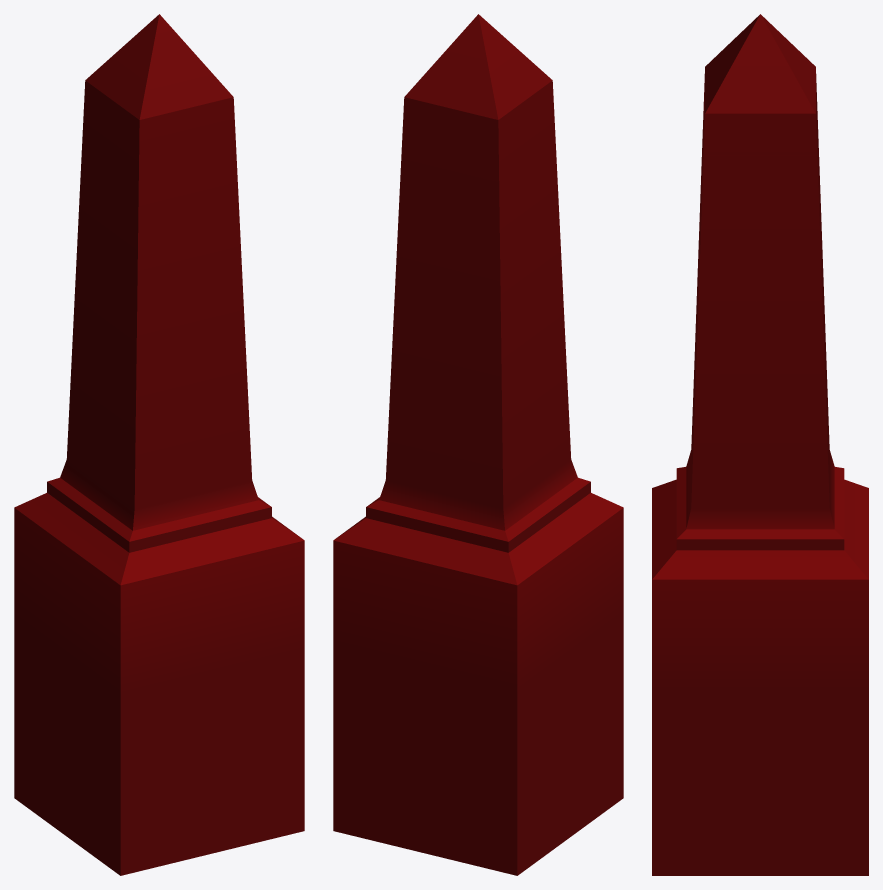
The model's file is geology-carvedstone-obelisk_v1.fbx.
3 views of the same model, side by side, from view 1: azimuth 30°, elevation 25°; view 2: azimuth 150°, elevation 25°; view 3: azimuth 270°, elevation 25° (orthographic).
Parts seen in each view (by area): view 1: Obelisk_v1; view 2: Obelisk_v1; view 3: Obelisk_v1.
Boxes of the visible parts, x1,y1,x2,y2 form: Obelisk_v1: [14, 14, 304, 875]; Obelisk_v1: [333, 14, 623, 875]; Obelisk_v1: [652, 14, 868, 875].
Size of the model in its own units: 1.45 by 6.02 by 1.45.
